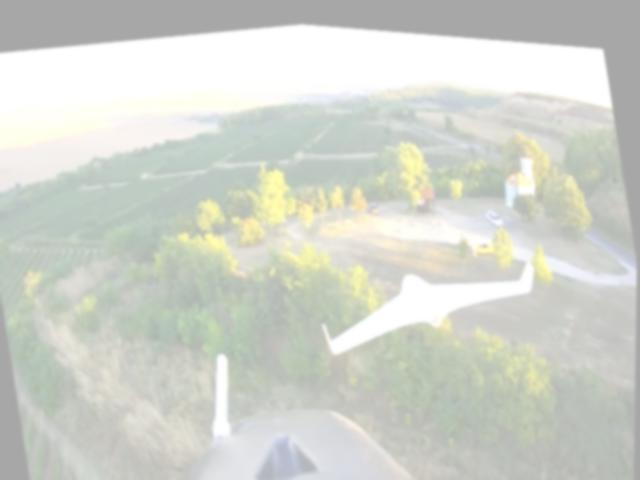plane: (315, 237, 547, 364)
